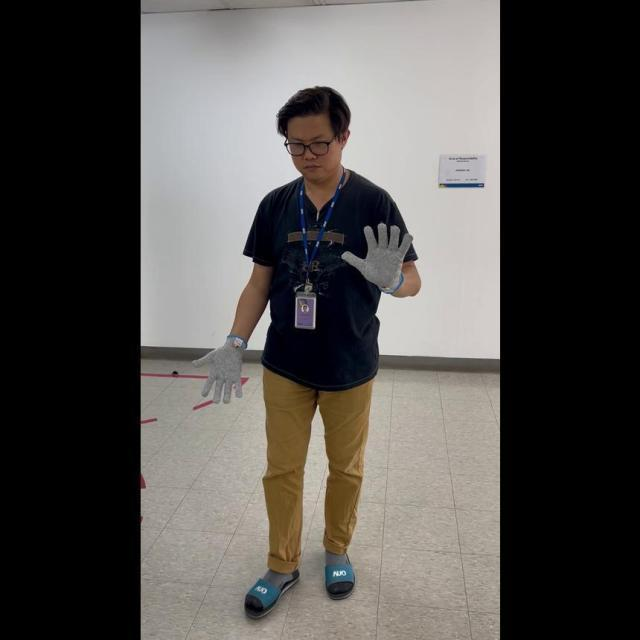gloved_hand: (342, 218, 412, 291), (192, 328, 250, 403)
